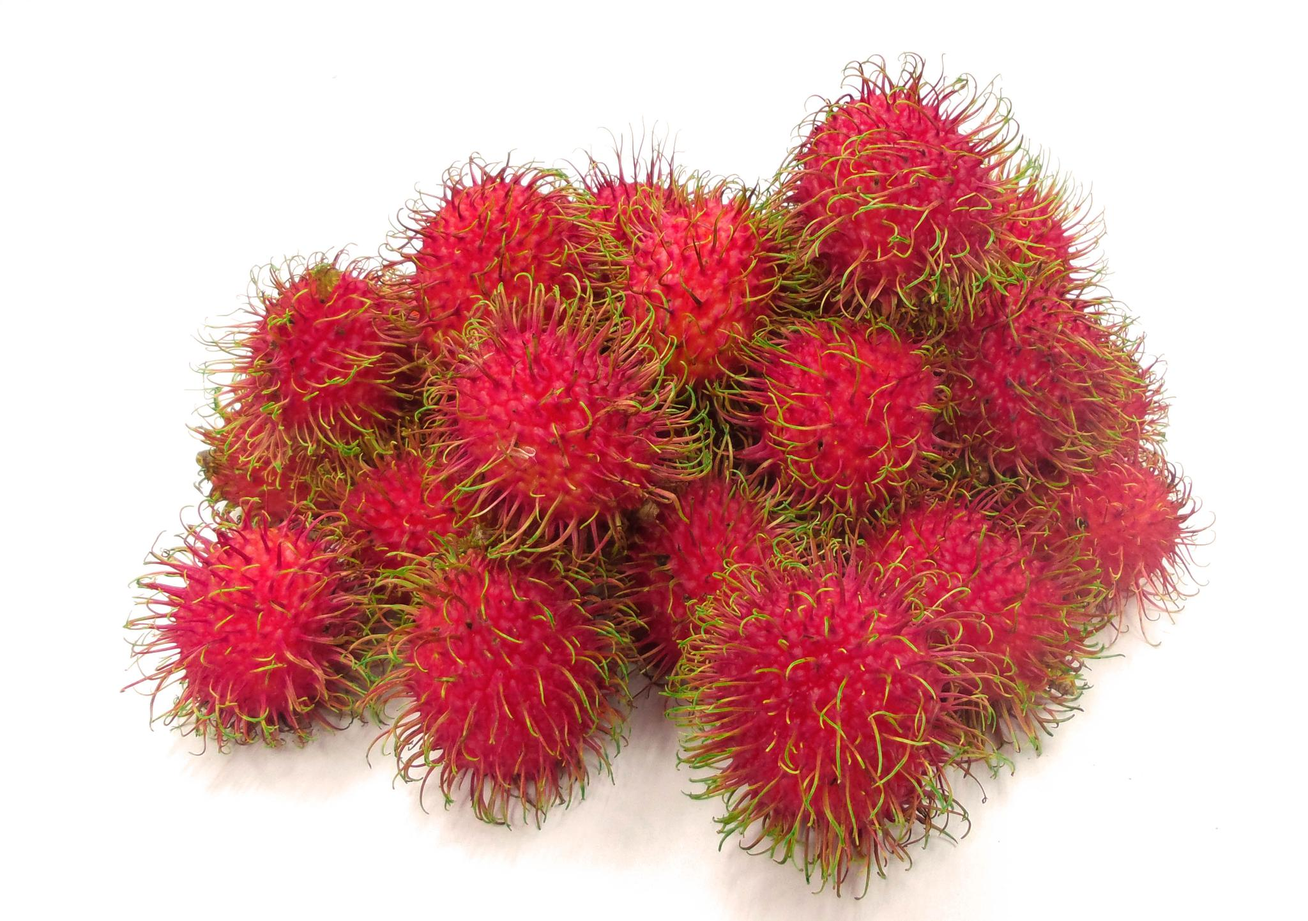chom_chom: (692, 520, 964, 896), (417, 284, 716, 539), (770, 57, 1022, 319), (145, 503, 364, 741)
